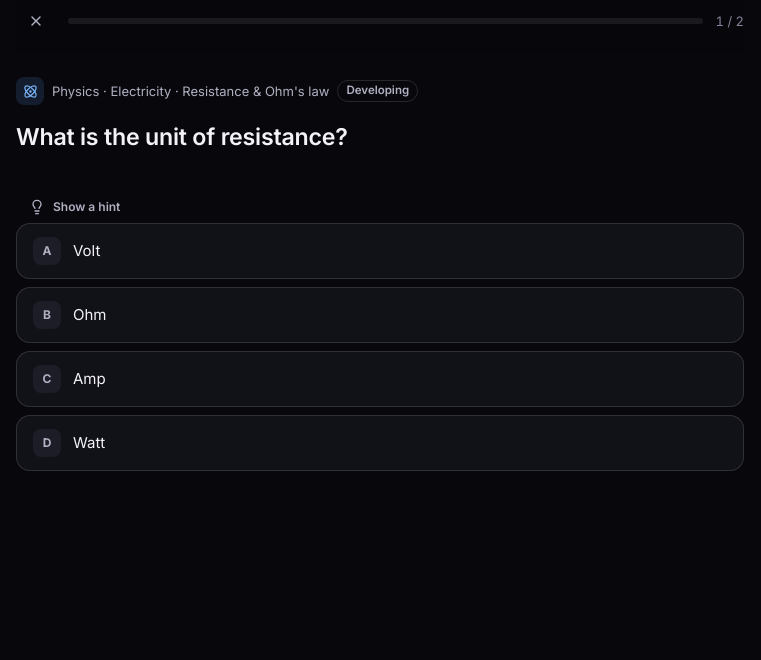
Practice session › trusts the server when it disagrees with the local answer key
The image size is (761, 660).
What coordinates should you click on to do the following:
click the button "B Ohm"
I would click on:
 (90, 314)
Its box is x1=16 y1=287 x2=744 y2=343.
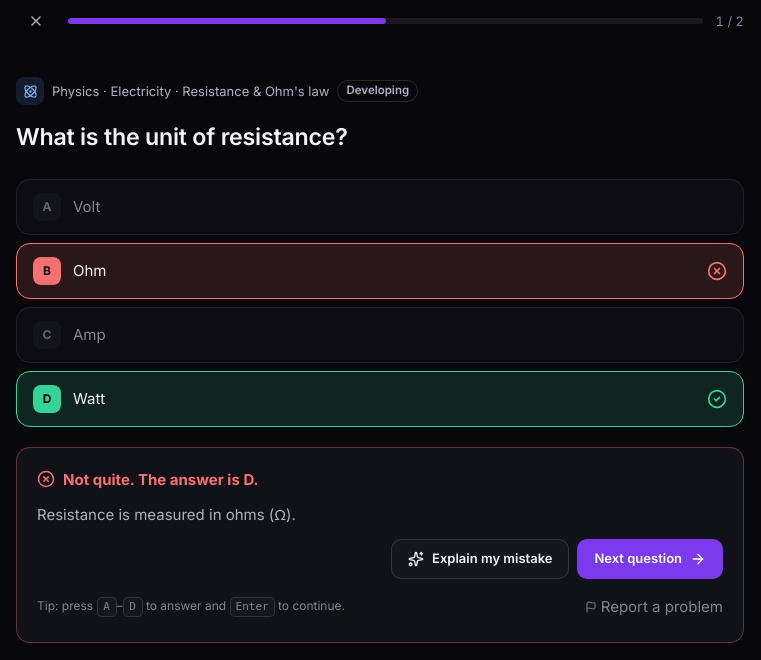
Result: the text "Not quite. The answer is D." is shown at x1=37 y1=468 x2=259 y2=491
